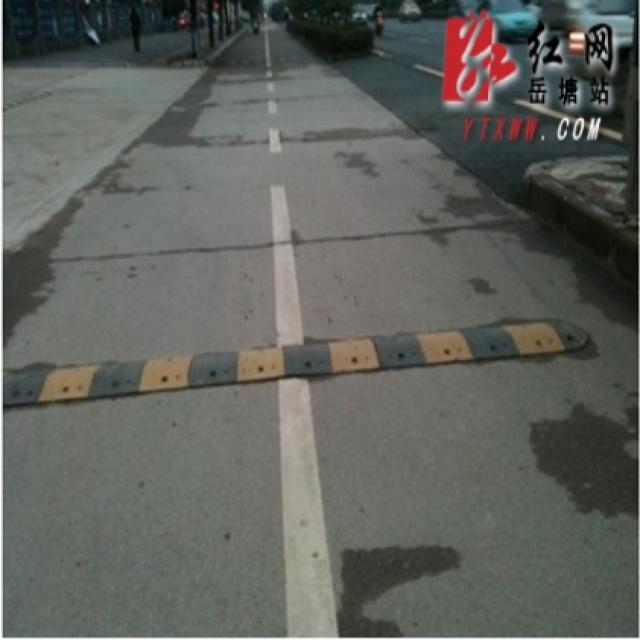Speed Bump: (9, 320, 593, 398)
